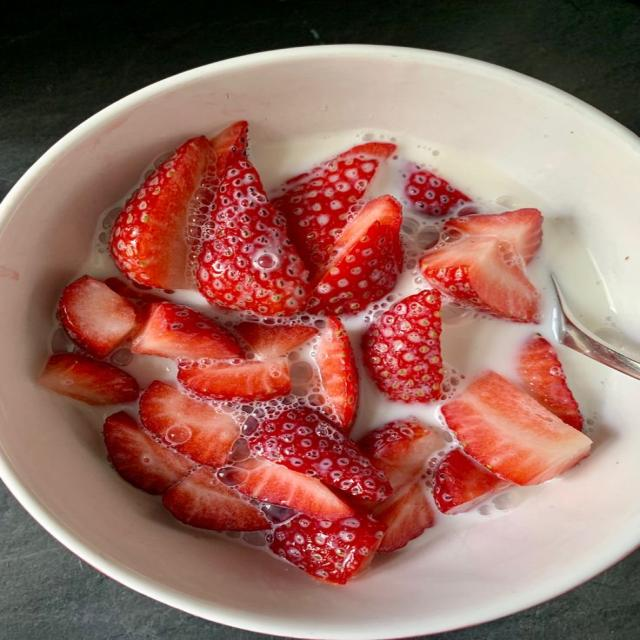strawberry sliced: (196, 157, 308, 316), (442, 372, 591, 484), (274, 143, 395, 274), (110, 137, 211, 289), (248, 408, 391, 502), (307, 196, 403, 315), (360, 419, 443, 551), (420, 236, 539, 322), (362, 290, 443, 402), (188, 121, 247, 272), (140, 381, 239, 467), (220, 458, 354, 520), (270, 515, 385, 584), (104, 412, 194, 494), (163, 467, 269, 531), (132, 302, 243, 360), (58, 276, 136, 358), (518, 335, 583, 430), (359, 419, 443, 489), (443, 209, 542, 263), (39, 353, 139, 405), (316, 317, 359, 433), (178, 357, 291, 401), (434, 449, 509, 514), (373, 479, 434, 552), (234, 322, 317, 359), (405, 169, 470, 216), (105, 278, 165, 324), (105, 277, 165, 306)
